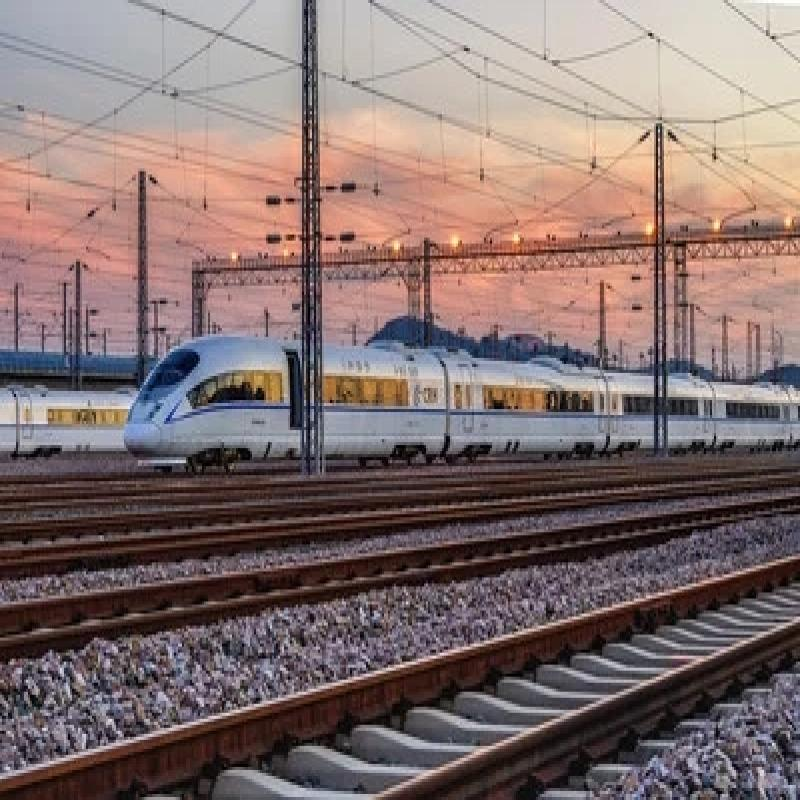train: (117, 332, 800, 470), (3, 374, 141, 458)
